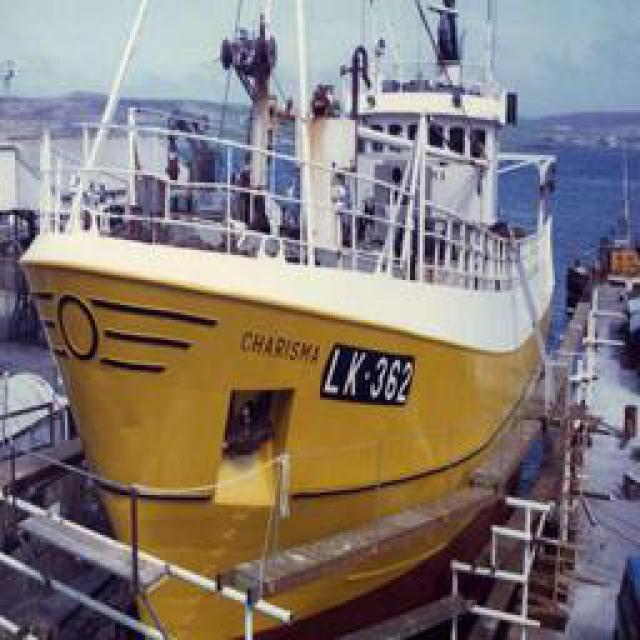Ship: (11, 1, 552, 604)
